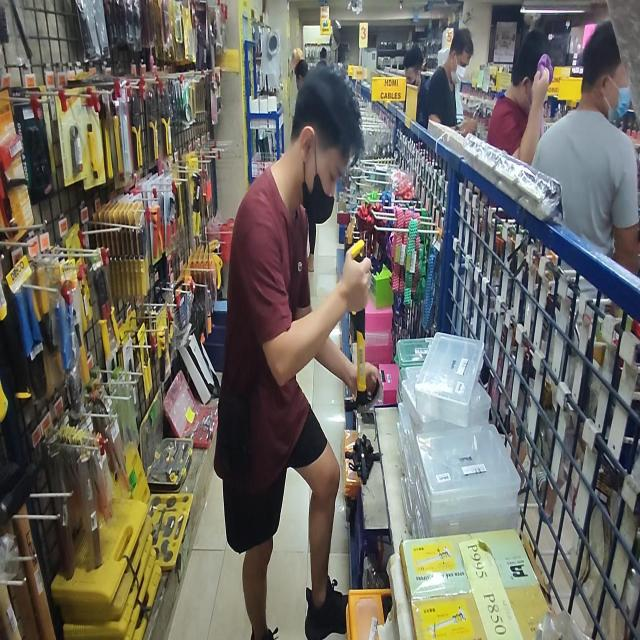hammer: (344, 239, 384, 413)
